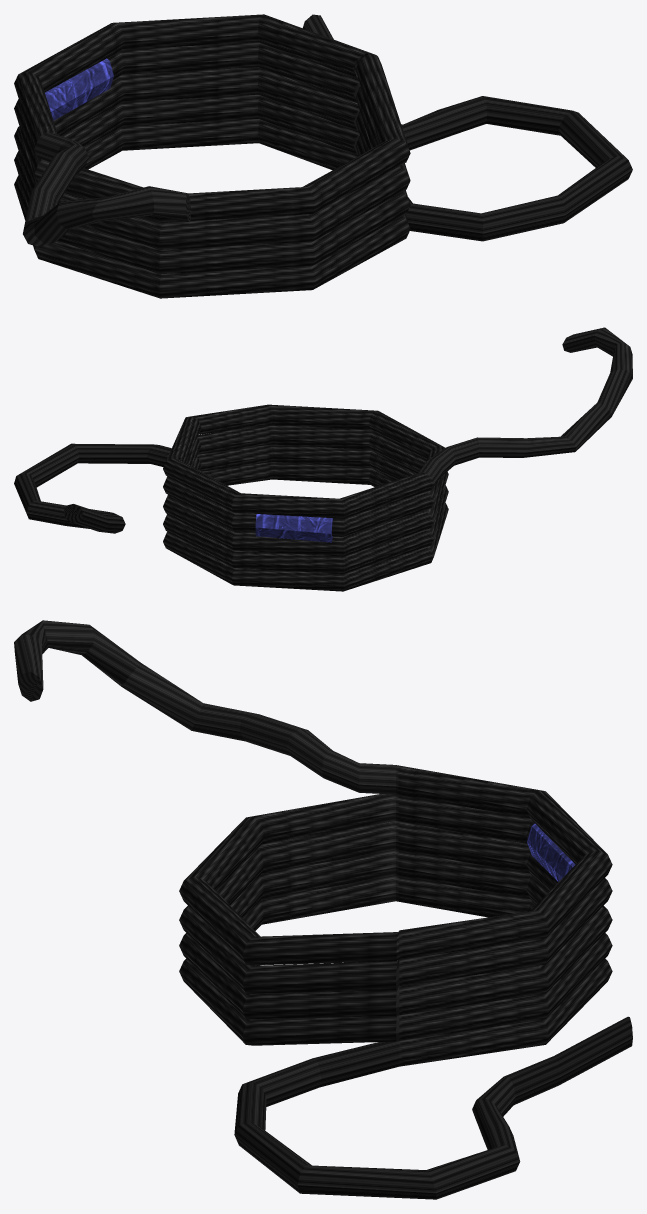
File: cuerdaDesatada.fbx
The picture shows the model from 3 angles, top to bottom: view 1: azimuth 30°, elevation 25°; view 2: azimuth 150°, elevation 25°; view 3: azimuth 270°, elevation 25°; orthographic projection. The views are drawn at different scales.
Parts seen in each view (by area): view 1: Torus.002, Cylinder.001; view 2: Torus.002, Cylinder.001; view 3: Torus.002, Cylinder.001.
Part boxes in pixels (x1,y1,x2,y2): Torus.002: (14,14,632,298); Cylinder.001: (45,58,113,120); Torus.002: (14,327,632,591); Cylinder.001: (255,514,332,542); Torus.002: (14,620,632,1199); Cylinder.001: (527,823,575,881).
Size of the model in its own units: 943 by 310 by 695.
